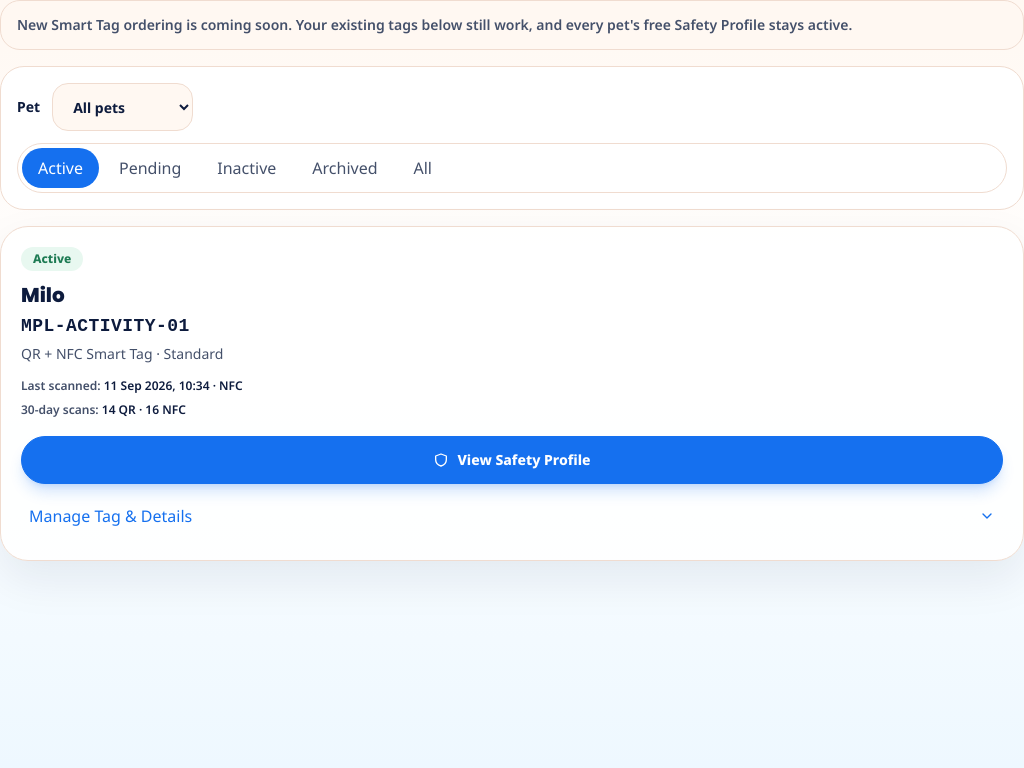
Test case: owner Smart Tag activity › opens Premium history in a dialog and presents legacy rows generically
Expected: the text "MPL-ACTIVITY-01" is shown, 21,316 -> 190,336
Click the button "Manage Tag & Details": (111, 516) 21,492 -> 1003,540
(page scrolled)
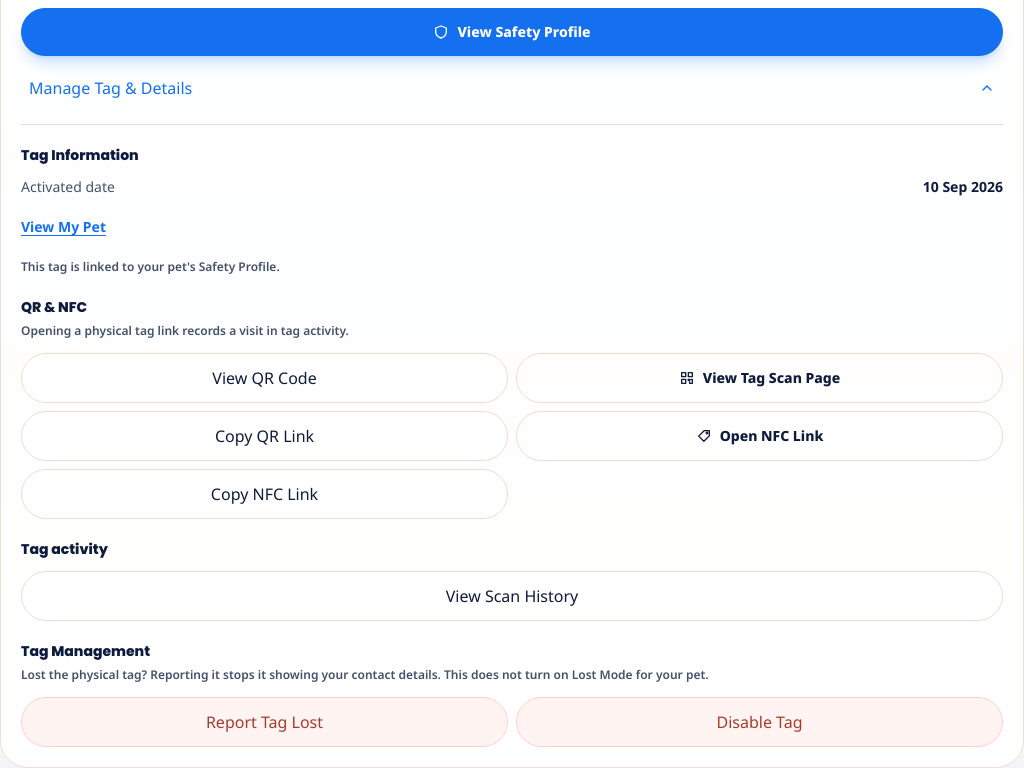
Expected: the text "NFC tap" is not shown
Click the button "View Scan History": (512, 596) 21,571 -> 1003,621
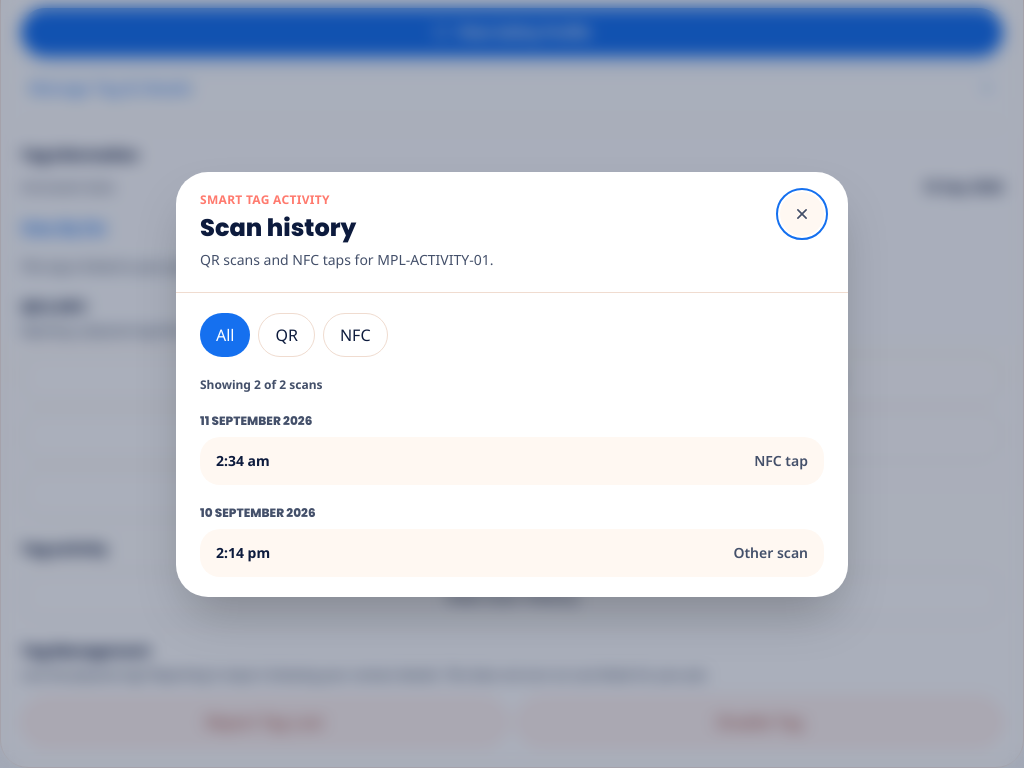
Now the dialog "Scan history" is shown
Now the text "NFC tap" is shown, box 754,450 -> 808,470
Now the text "Other scan" is shown, box 733,542 -> 808,562
